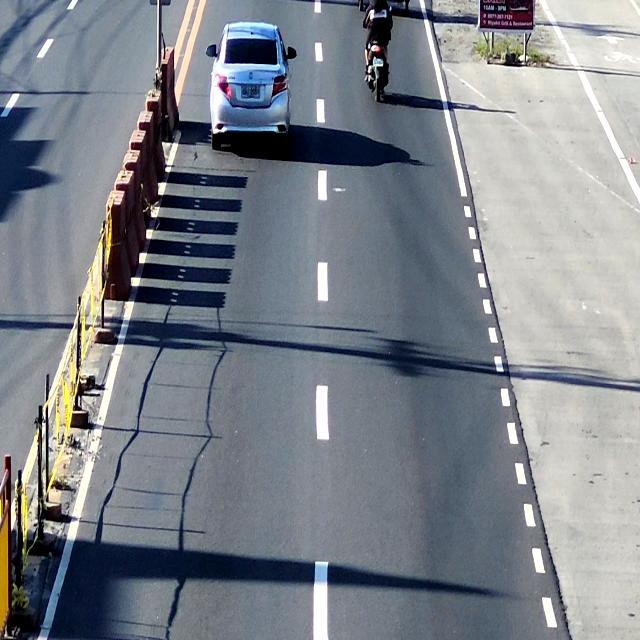Car: (208, 25, 294, 153)
License-Plate: (239, 81, 262, 98)
Motorcycle: (359, 0, 395, 106)
